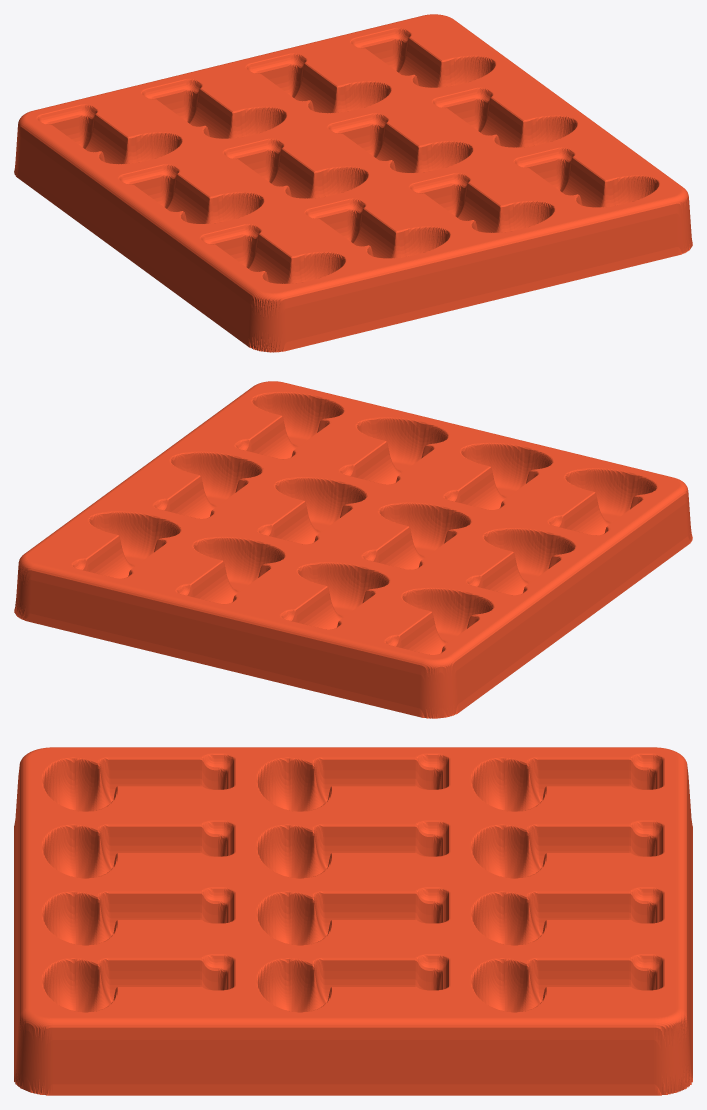
File: mold.glb
The picture shows the model from 3 angles, top to bottom: view 1: azimuth 30°, elevation 25°; view 2: azimuth 150°, elevation 25°; view 3: azimuth 270°, elevation 25°; orthographic projection. The views are drawn at different scales.
Visible parts, largest first — view 1: geometry_0; view 2: geometry_0; view 3: geometry_0.
Part boxes in pixels (left/top/right/bottom): geometry_0: left=14, top=14, right=692, bottom=352; geometry_0: left=14, top=381, right=692, bottom=718; geometry_0: left=14, top=747, right=692, bottom=1095.
Size of the model in its own units: 0.1573 by 0.0185 by 0.1598.
